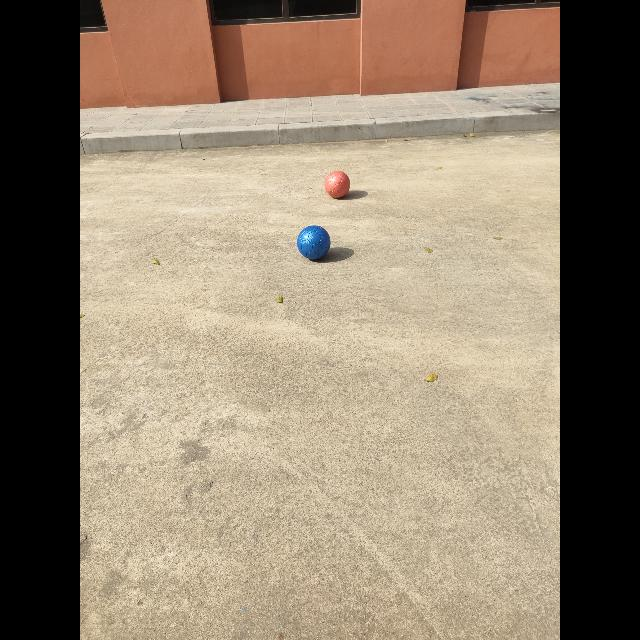B: (298, 225, 330, 260)
R: (324, 171, 350, 199)
